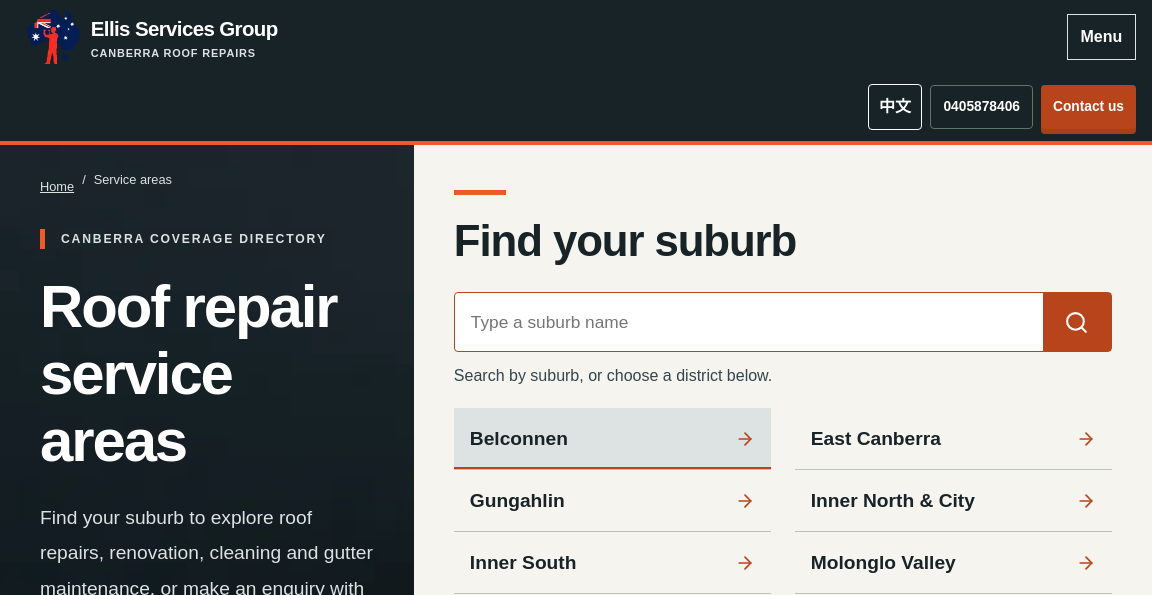
Test: area search offers a direct enquiry with the exact known suburb and district
The width and height of the screenshot is (1152, 595).
Type "Ainslie" into the field named "Search suburbs".
click(749, 322); type("Ainslie")  # box [455, 294, 1043, 352]
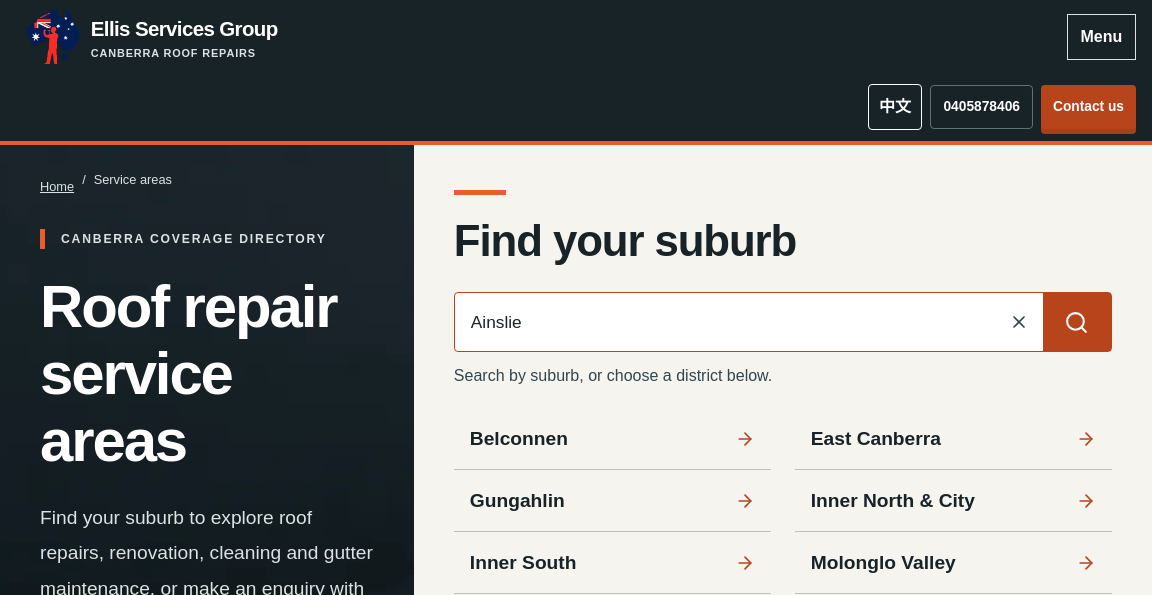
Click the button named "Clear suburb search".
click(1019, 322)  # box [995, 294, 1043, 352]
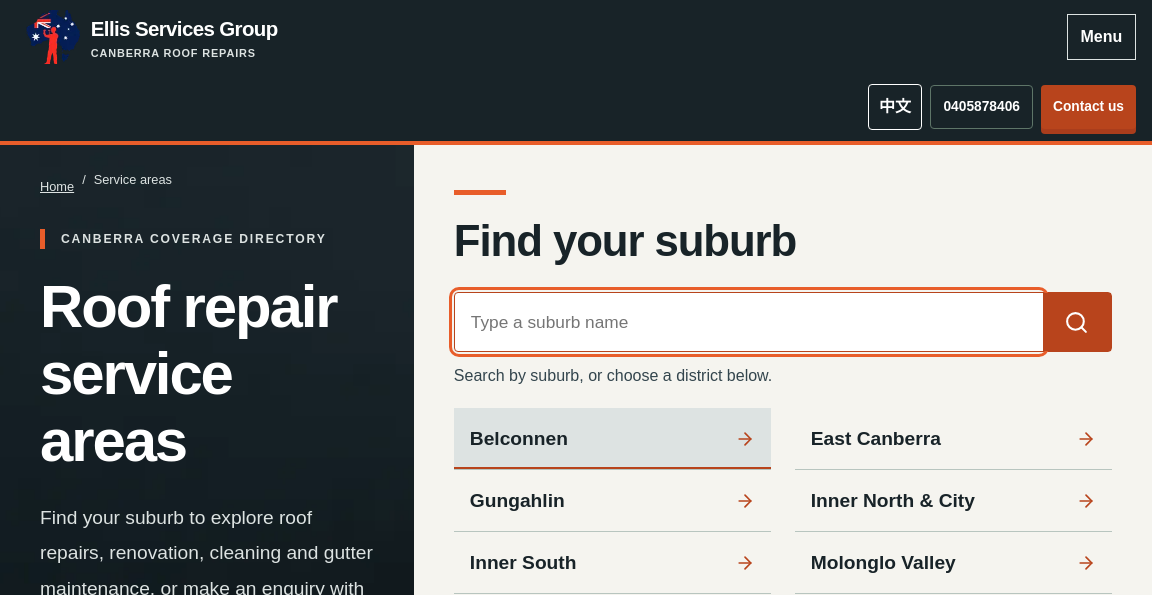
Now the field named "Search suburbs" is empty
Type "no-matching-suburb" into the field named "Search suburbs".
click(749, 322); type("no-matching-suburb")  # box [455, 294, 1043, 352]
(page scrolled)
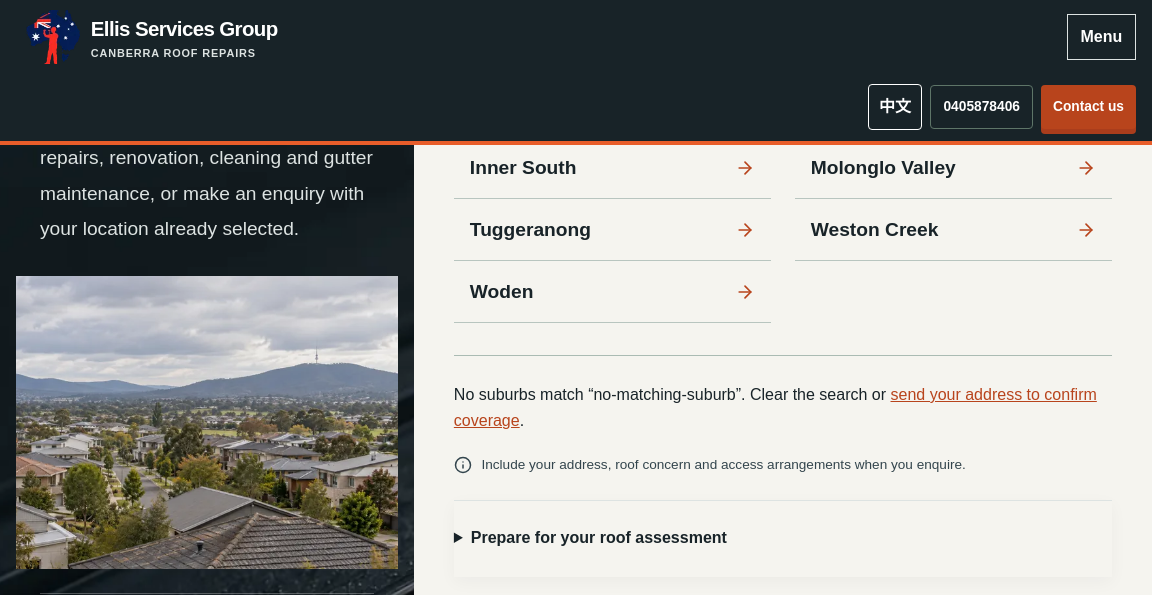
Now the message shows "No suburbs match", box [454, 386, 584, 403]
